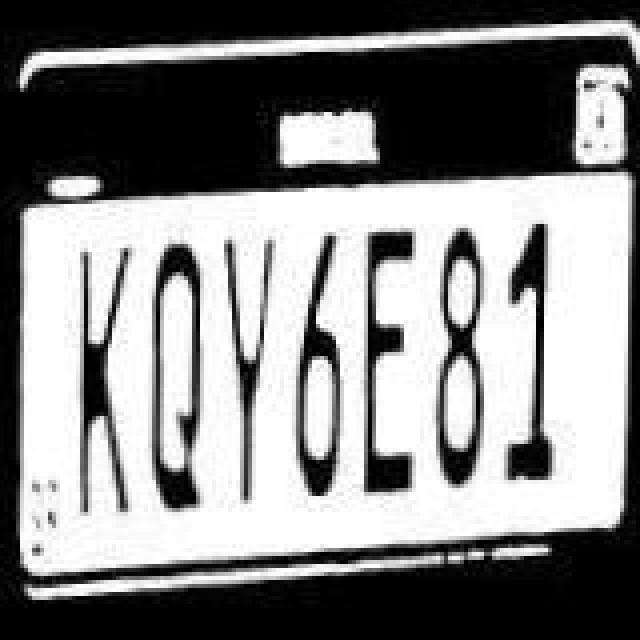1: (494, 216, 562, 488)
6: (288, 230, 352, 506)
8: (428, 224, 492, 492)
E: (356, 228, 428, 512)
K: (70, 240, 134, 520)
Q: (146, 242, 218, 522)
Y: (222, 240, 290, 508)
